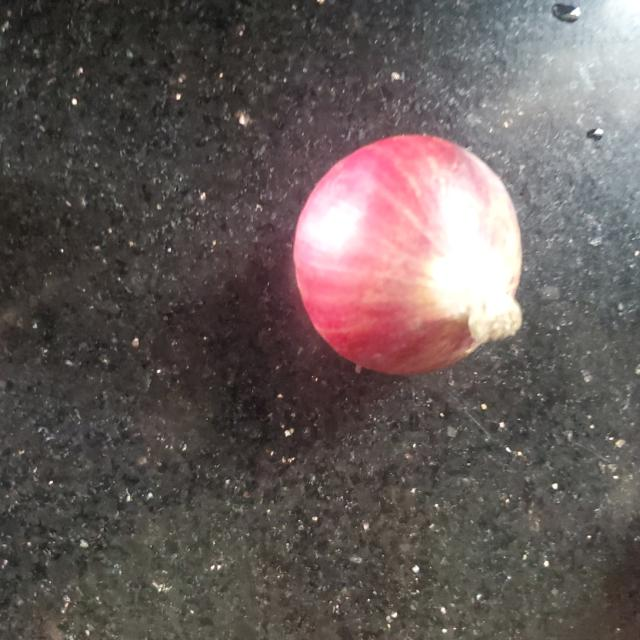onion: (293, 137, 522, 378)
